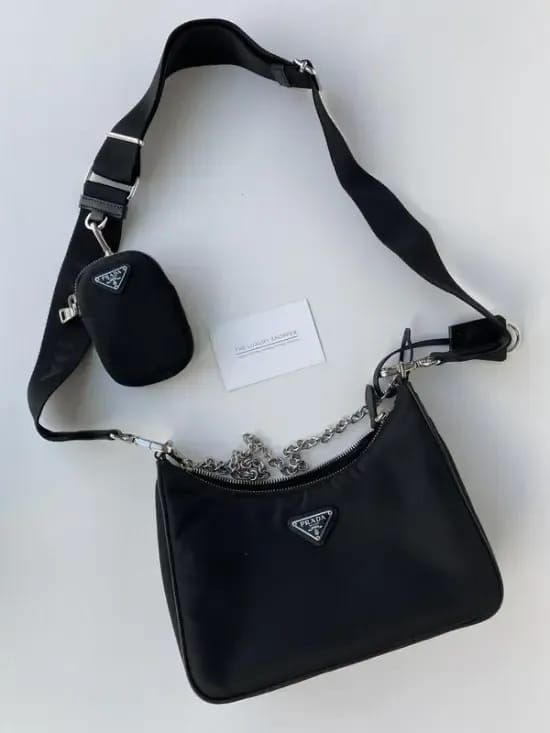nylon: (26, 18, 512, 703)
